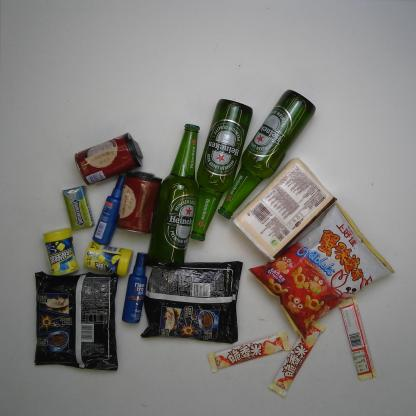Alcohol: (215, 88, 317, 220), (189, 97, 253, 242), (145, 122, 200, 268)
Canned Food: (73, 131, 144, 187), (115, 170, 163, 235)
Chocolate: (268, 320, 327, 398), (206, 329, 292, 375), (336, 293, 376, 383)
Gum: (42, 226, 80, 276), (83, 241, 134, 277), (61, 184, 95, 231)
Instant Noodles: (138, 259, 244, 346), (31, 272, 120, 372)
Personal Hygiene: (92, 174, 127, 245), (121, 252, 148, 324)
Puffed Food: (247, 202, 395, 340)
Tissue: (232, 156, 337, 264)
